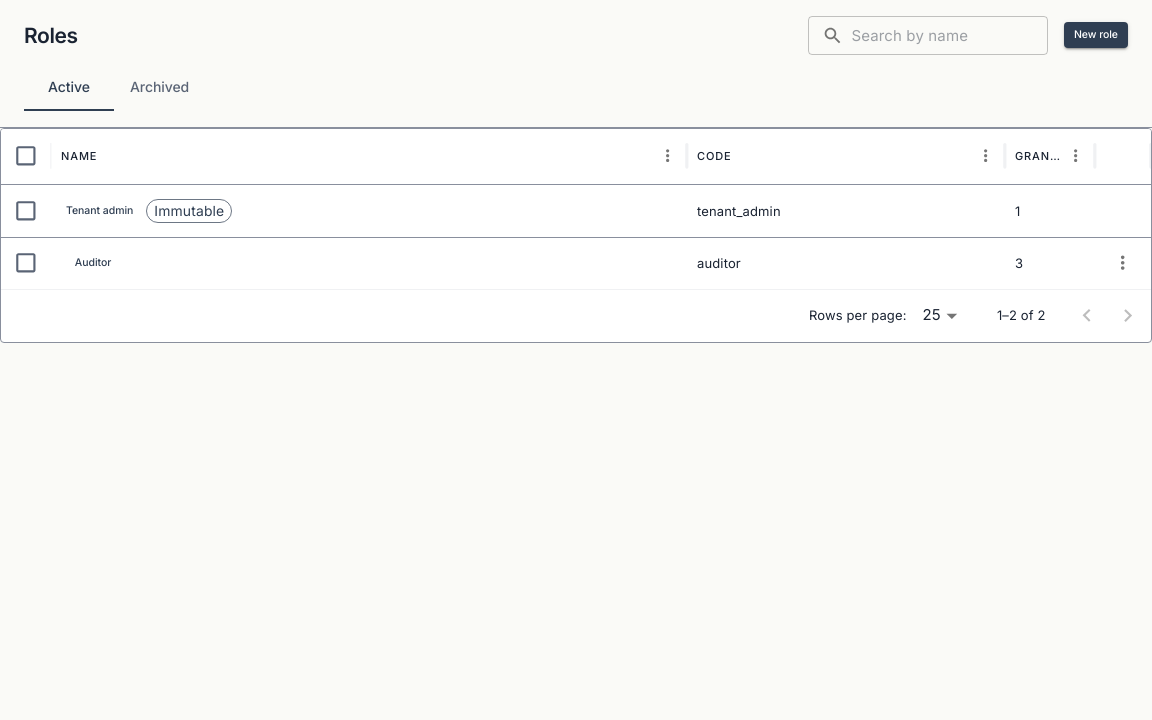
it: RolesPage (M0003-R016–R018) › shows grants grouped by module, with * as "All modules"
This screenshot has width=1152, height=720.
Click the button "Auditor". click: (93, 263)
box: [61, 250, 125, 276]
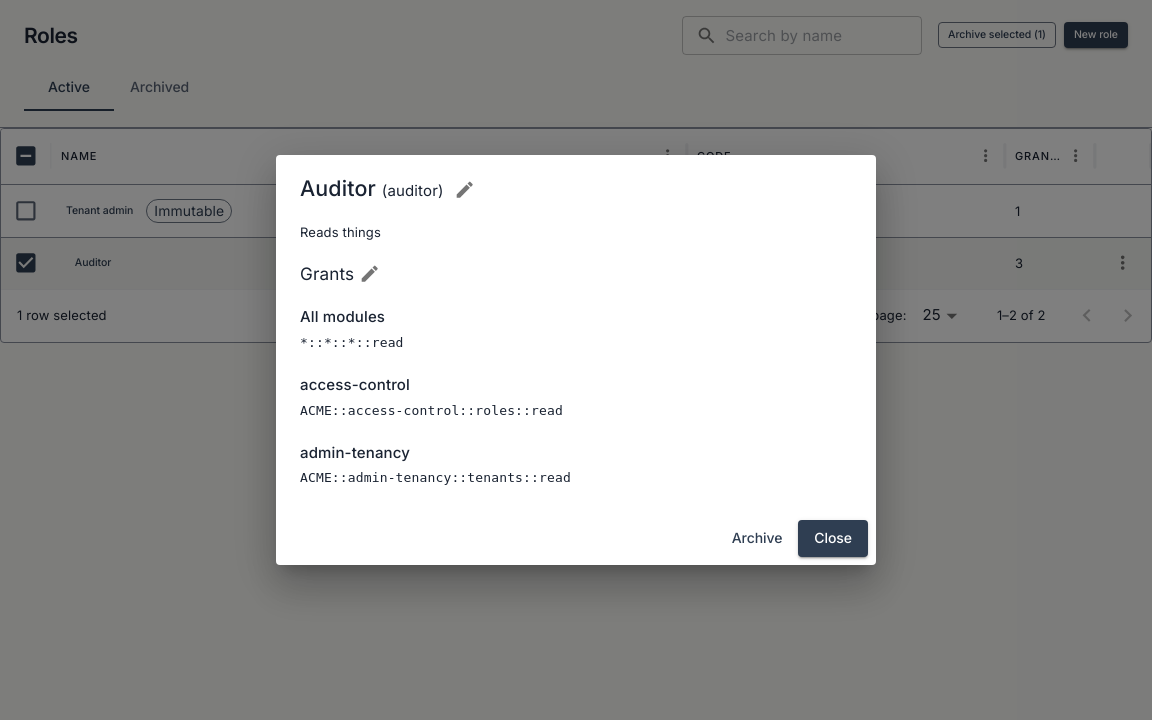
Now the text "ACME::access-control::roles::read" is shown, box [300, 401, 563, 421]
